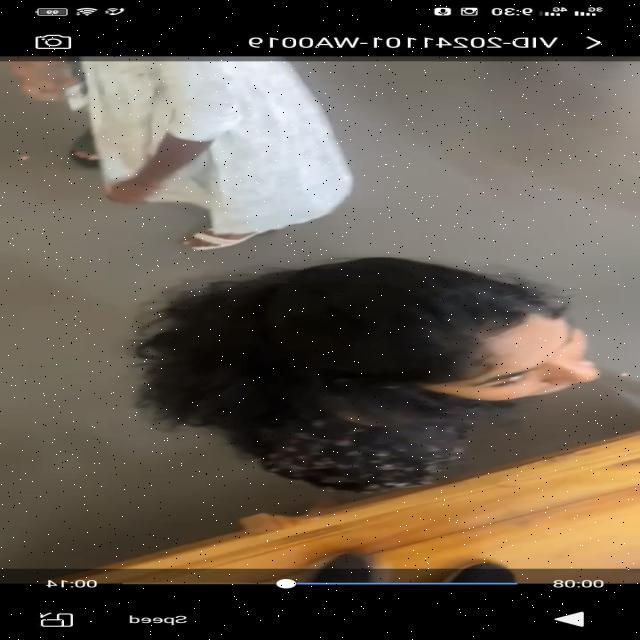humans: (105, 253, 586, 507)
